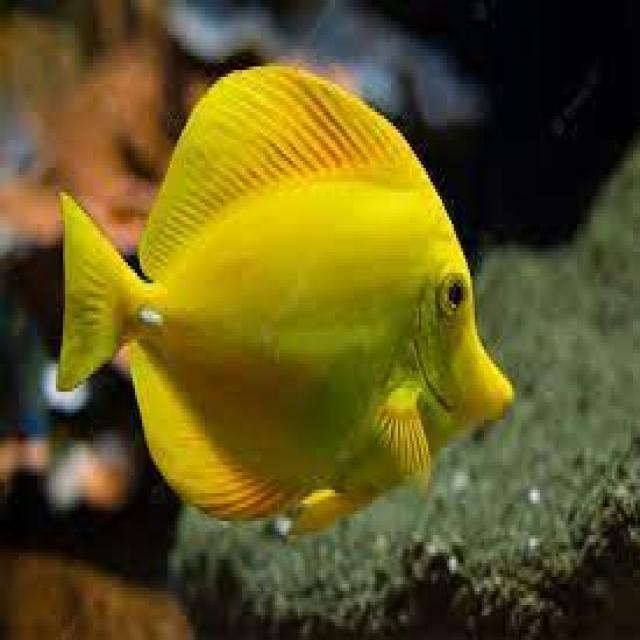TangFish: (55, 65, 515, 519)
